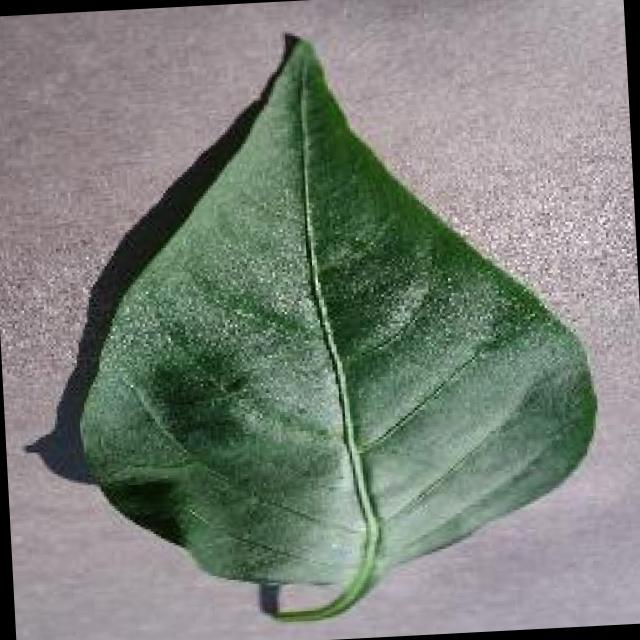Chilli_Healthy: (55, 14, 608, 633)
